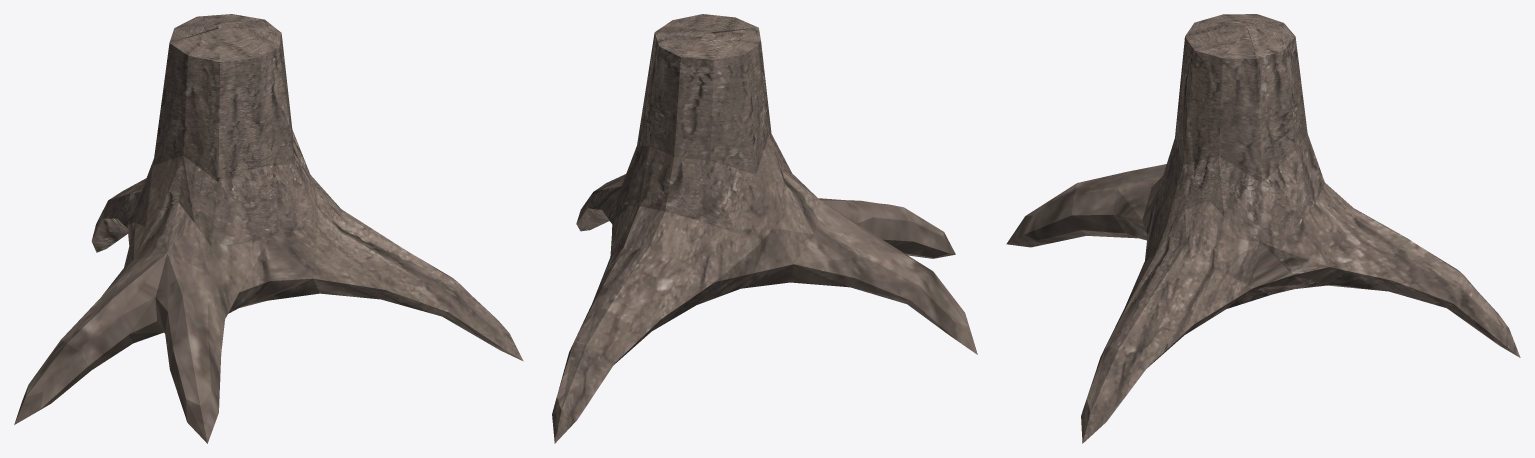
The model's file is TreeTocon.obj.
The picture shows the model from 3 angles, left to right: view 1: azimuth 30°, elevation 25°; view 2: azimuth 150°, elevation 25°; view 3: azimuth 270°, elevation 25°; orthographic projection. The views are drawn at different scales.
Visible parts, largest first — view 1: Tree; view 2: Tree; view 3: Tree.
Part boxes in pixels (left/top/right/bottom): Tree: left=14, top=14, right=523, bottom=443; Tree: left=552, top=14, right=977, bottom=443; Tree: left=1006, top=14, right=1520, bottom=443.
Size of the model in its own units: 1.84 by 1.27 by 1.83.
1 material, 1 textured.
